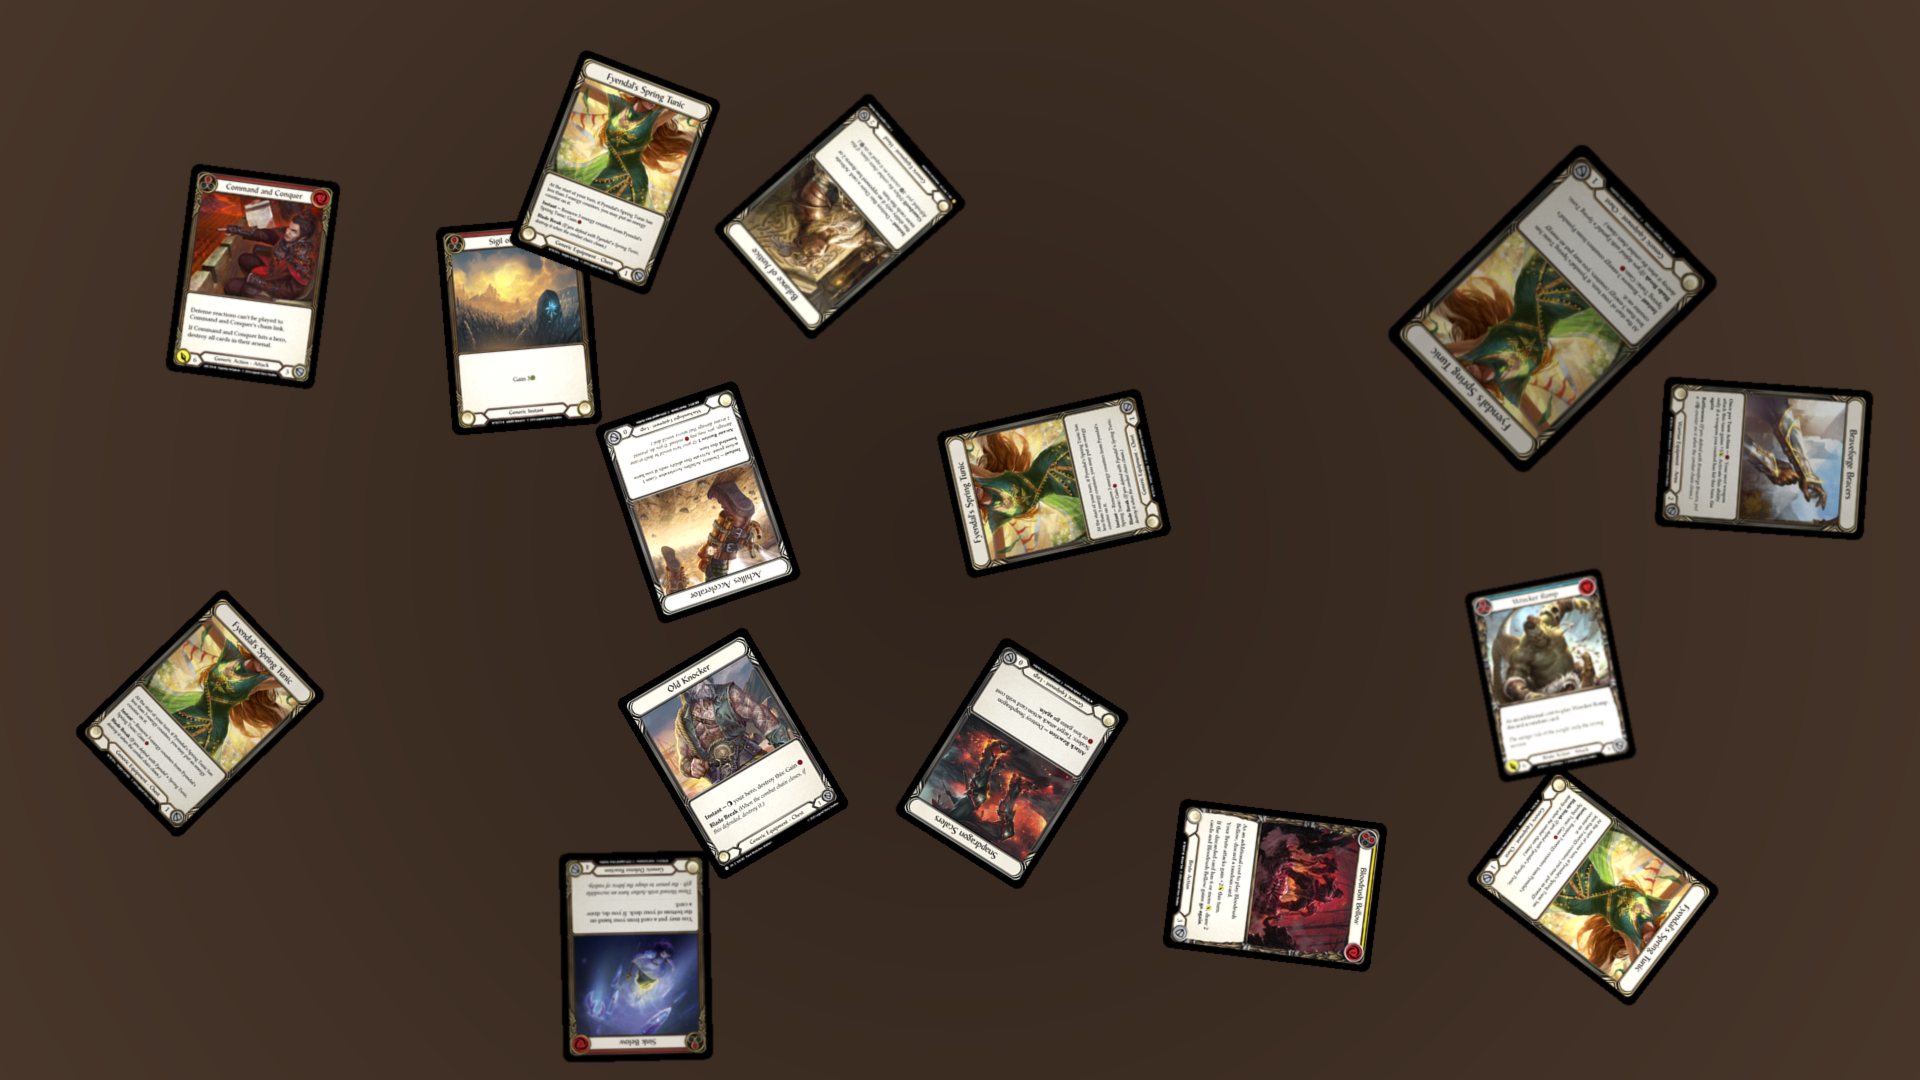Achilles_Accelerator_ARC005: (593, 378, 803, 626)
Balance_of_Justice_HVY195: (711, 91, 969, 342)
Bloodrush_Bellow_WTR007: (1162, 798, 1389, 973)
Braveforge_Bracers_WTR116: (1654, 376, 1874, 541)
Command_and_Conquer_ARC159: (164, 164, 342, 390)
Fyendals_Spring_Tunic_WTR150: (1383, 140, 1722, 477), (73, 585, 328, 841), (1464, 762, 1722, 1009), (506, 47, 723, 297), (935, 386, 1174, 580)
Old_Knocker_SEA182: (615, 625, 851, 882)
Sigil_of_Solace_WTR173: (435, 215, 603, 436)
Sink_Below_WTR215: (558, 851, 713, 1063)
Snapdragon_Scalers_WTR154: (891, 636, 1131, 891)
Wrecker_Romp_WTR031: (1462, 567, 1638, 785)
